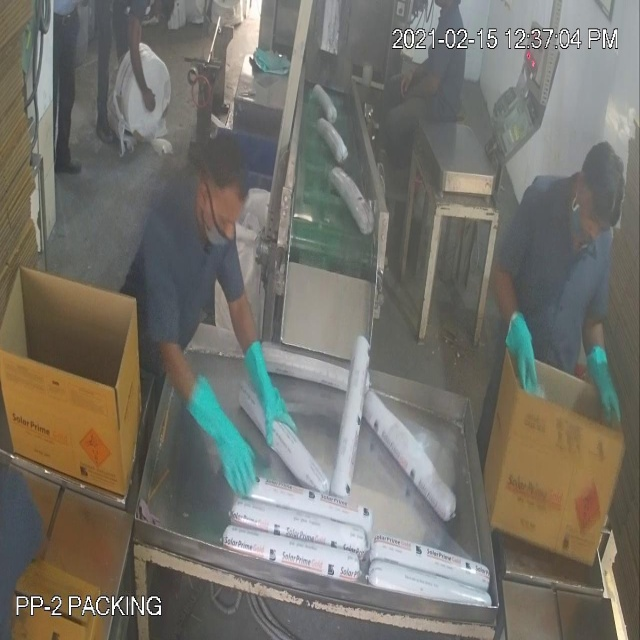Guantes: (171, 361, 258, 506), (231, 325, 298, 450), (498, 304, 550, 390), (588, 342, 626, 428)
Sin_guantes: (119, 19, 165, 123), (387, 45, 443, 113)
